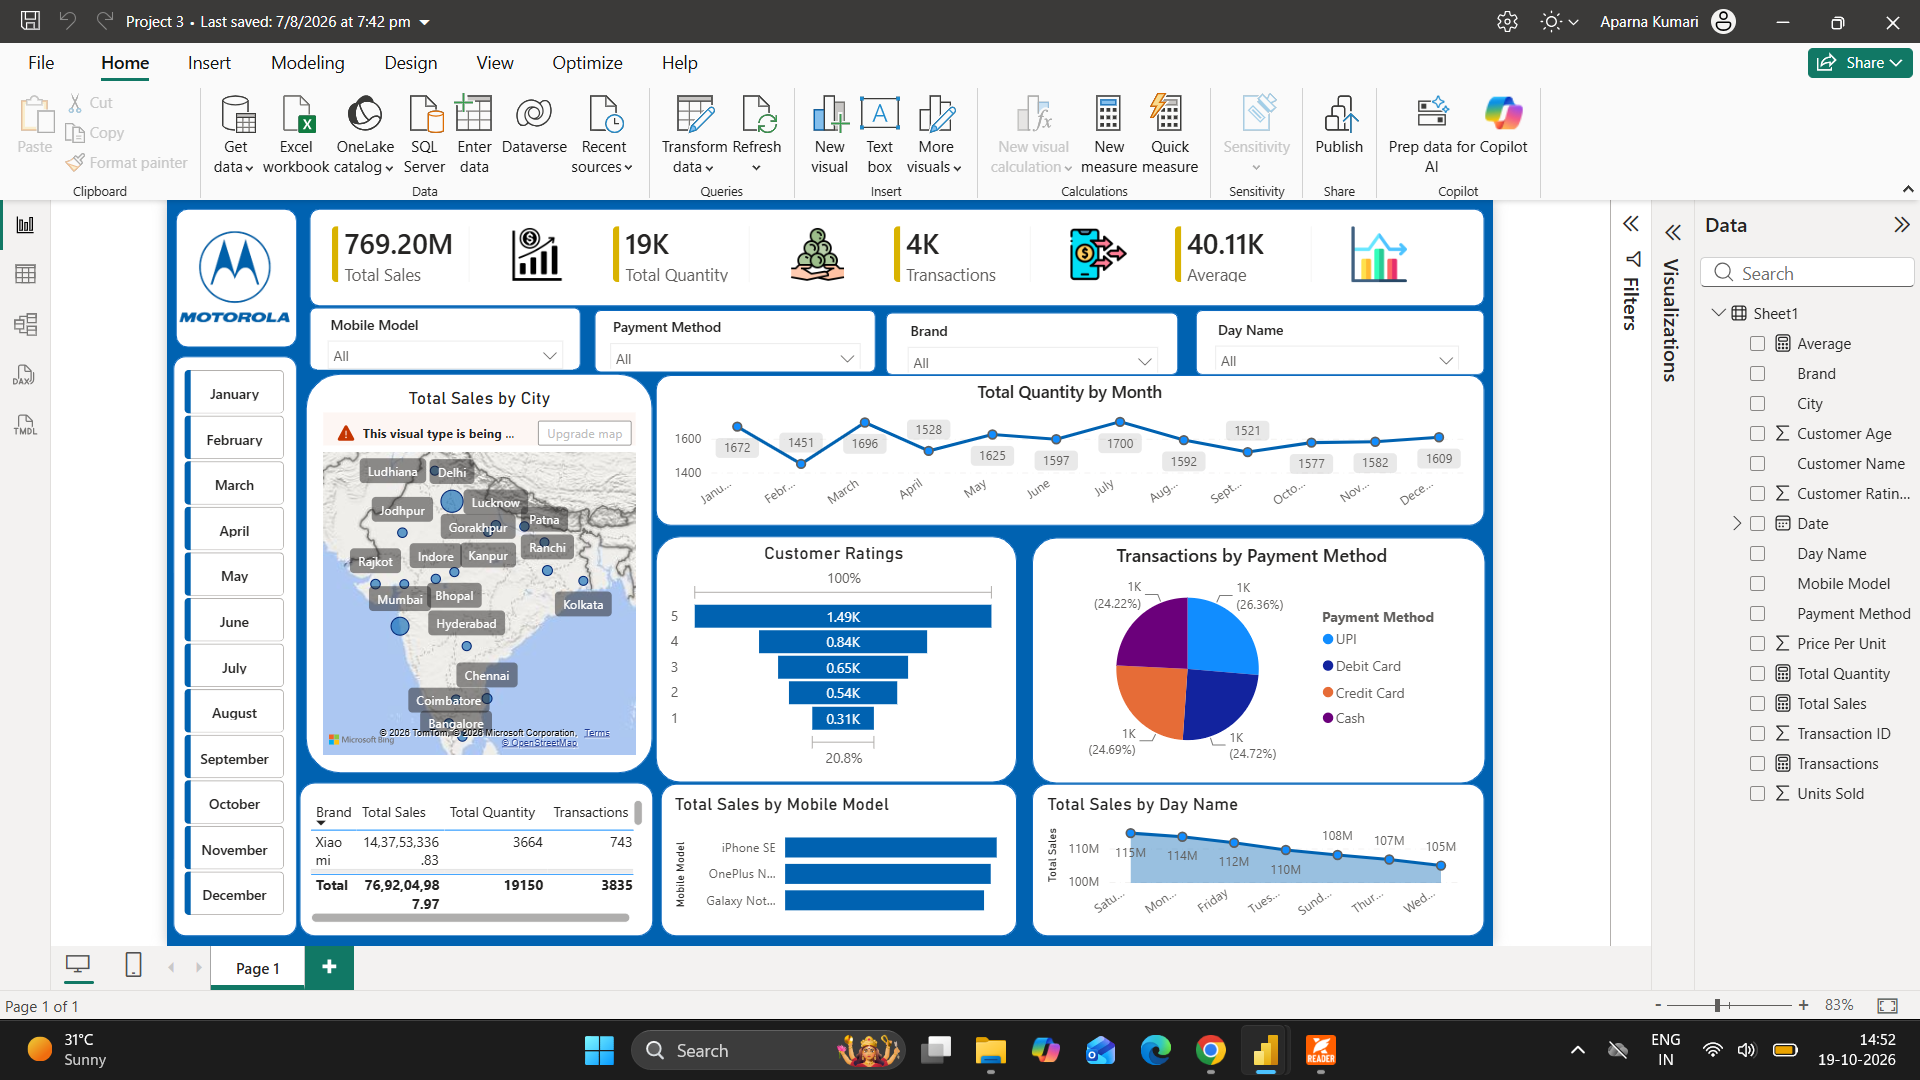

What the dashboard file says about the page in this screenshot:
{"tool":"powerbi","page":{"name":"Page 1","canvas":[1280,720],"ordinal":0},"visuals":[{"type":"shape","box":[8.4,8.4,117,133.9],"z":0},{"type":"image","box":[12.1,16.9,106.2,114.6],"z":1000},{"type":"shape","box":[6,150.8,119.4,559.8],"z":2000},{"type":"advancedSlicerVisual","fields":{"Values":["Sheet1.Date.Variation.Date Hierarchy.Month"]},"box":[12.1,159.3,106.2,542.9],"z":3000},{"type":"shape","box":[137.5,8.4,1134.1,94.1],"z":4000},{"type":"cardVisual","fields":{"Data":["Sheet1.Total Sales","Sheet1.Total Quantity","Sheet1.Transactions","Sheet1.Average"]},"box":[142.4,8.4,1111.1,88.1],"z":5000},{"type":"shape","box":[134.5,167.4,334.8,385.6],"z":6000},{"type":"map","fields":{"Category":["Sheet1.City"],"Size":["Sheet1.Total Sales"]},"box":[145.5,181.1,311.5,359.5],"z":7000},{"type":"shape","box":[471.7,324.5,348.7,237.7],"z":8000},{"type":"funnel","title":"Customer Ratings","fields":{"Category":["Sheet1.Customer Ratings"],"Y":["CountNonNull(Sheet1.Customer Ratings)"]},"box":[481.4,330.6,324.5,222],"z":9000},{"type":"shape","box":[472,168.8,800,145.5],"z":10000},{"type":"lineChart","fields":{"Category":["Sheet1.Date.Variation.Date Hierarchy.Month","Sheet1.Date.Variation.Date Hierarchy.Day"],"Y":["Sheet1.Total Quantity"]},"box":[484.4,174.3,772.6,134.5],"z":11000},{"type":"shape","box":[834.3,325.2,437.7,237.4],"z":12000},{"type":"shape","box":[137.5,103.8,261.8,60.3],"z":13000},{"type":"pieChart","fields":{"Category":["Sheet1.Payment Method"],"Y":["Sheet1.Transactions"]},"box":[850.5,330.6,393.3,222],"z":14000},{"type":"shape","box":[412.6,106.2,271.4,60.3],"z":15000},{"type":"slicer","fields":{"Values":["Sheet1.Payment Method"]},"box":[417.4,108.6,261.8,54.3],"z":16000},{"type":"slicer","fields":{"Values":["Sheet1.Mobile Model"]},"box":[144.8,106.2,247.3,57.9],"z":17000},{"type":"shape","box":[693.7,108.6,282.3,60.3],"z":18000},{"type":"shape","box":[992.9,106.2,278.7,62.7],"z":19000},{"type":"slicer","fields":{"Values":["Sheet1.Day Name"]},"box":[1001.3,111,255.8,53.1],"z":20000},{"type":"slicer","fields":{"Values":["Sheet1.Brand"]},"box":[704.6,112.2,261.8,54.3],"z":21000},{"type":"shape","box":[127.9,562.2,341.4,148.4],"z":22000},{"type":"shape","box":[476.5,563.4,343.8,147.2],"z":23000},{"type":"shape","box":[834.9,563.4,436.7,147.2],"z":24000},{"type":"tableEx","fields":{"Values":["Sheet1.Brand","Sheet1.Total Sales","Sheet1.Total Quantity","Sheet1.Transactions"]},"box":[132.7,574.3,331.8,127.9],"z":25000},{"type":"clusteredBarChart","fields":{"Category":["Sheet1.Mobile Model"],"Y":["Sheet1.Total Sales"]},"box":[484.4,573.6,322.5,129],"z":26000},{"type":"areaChart","fields":{"Category":["Sheet1.Day Name"],"Y":["Sheet1.Total Sales"]},"box":[843.9,573.6,410.3,130.4],"z":27000}]}

Visuals, with their boxes on the page's 1280x720 design canvas (x1, y1, x2, y2). These are canvas units, not pixel positions in the 1920x1080 screenshot, which may show the page scaled, cropped or inside an application window:
shape: {"left": 8, "top": 8, "right": 125, "bottom": 142}
image: {"left": 12, "top": 17, "right": 118, "bottom": 132}
shape: {"left": 6, "top": 151, "right": 125, "bottom": 711}
advancedSlicerVisual - Sheet1.Date.Variation.Date Hierarchy.Month: {"left": 12, "top": 159, "right": 118, "bottom": 702}
shape: {"left": 138, "top": 8, "right": 1272, "bottom": 102}
cardVisual - Sheet1.Total Sales x Sheet1.Total Quantity: {"left": 142, "top": 8, "right": 1254, "bottom": 96}
shape: {"left": 134, "top": 167, "right": 469, "bottom": 553}
map - Sheet1.City x Sheet1.Total Sales: {"left": 146, "top": 181, "right": 457, "bottom": 541}
shape: {"left": 472, "top": 324, "right": 820, "bottom": 562}
"Customer Ratings" funnel: {"left": 481, "top": 331, "right": 806, "bottom": 553}
shape: {"left": 472, "top": 169, "right": 1272, "bottom": 314}
lineChart - Sheet1.Date.Variation.Date Hierarchy.Month x Sheet1.Date.Variation.Date Hierarchy.Day: {"left": 484, "top": 174, "right": 1257, "bottom": 309}
shape: {"left": 834, "top": 325, "right": 1272, "bottom": 563}
shape: {"left": 138, "top": 104, "right": 399, "bottom": 164}
pieChart - Sheet1.Payment Method x Sheet1.Transactions: {"left": 850, "top": 331, "right": 1244, "bottom": 553}
shape: {"left": 413, "top": 106, "right": 684, "bottom": 166}
slicer - Sheet1.Payment Method: {"left": 417, "top": 109, "right": 679, "bottom": 163}
slicer - Sheet1.Mobile Model: {"left": 145, "top": 106, "right": 392, "bottom": 164}
shape: {"left": 694, "top": 109, "right": 976, "bottom": 169}
shape: {"left": 993, "top": 106, "right": 1272, "bottom": 169}
slicer - Sheet1.Day Name: {"left": 1001, "top": 111, "right": 1257, "bottom": 164}
slicer - Sheet1.Brand: {"left": 705, "top": 112, "right": 966, "bottom": 166}
shape: {"left": 128, "top": 562, "right": 469, "bottom": 711}
shape: {"left": 476, "top": 563, "right": 820, "bottom": 711}
shape: {"left": 835, "top": 563, "right": 1272, "bottom": 711}
tableEx - Sheet1.Brand x Sheet1.Total Sales: {"left": 133, "top": 574, "right": 464, "bottom": 702}
clusteredBarChart - Sheet1.Mobile Model x Sheet1.Total Sales: {"left": 484, "top": 574, "right": 807, "bottom": 703}
areaChart - Sheet1.Day Name x Sheet1.Total Sales: {"left": 844, "top": 574, "right": 1254, "bottom": 704}
